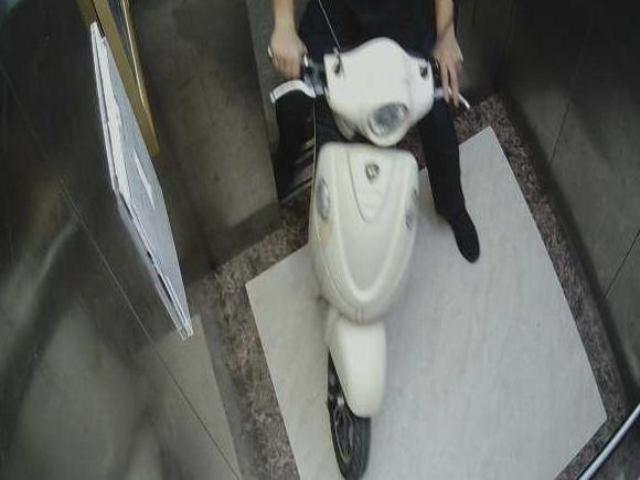emotor: (263, 20, 468, 480)
